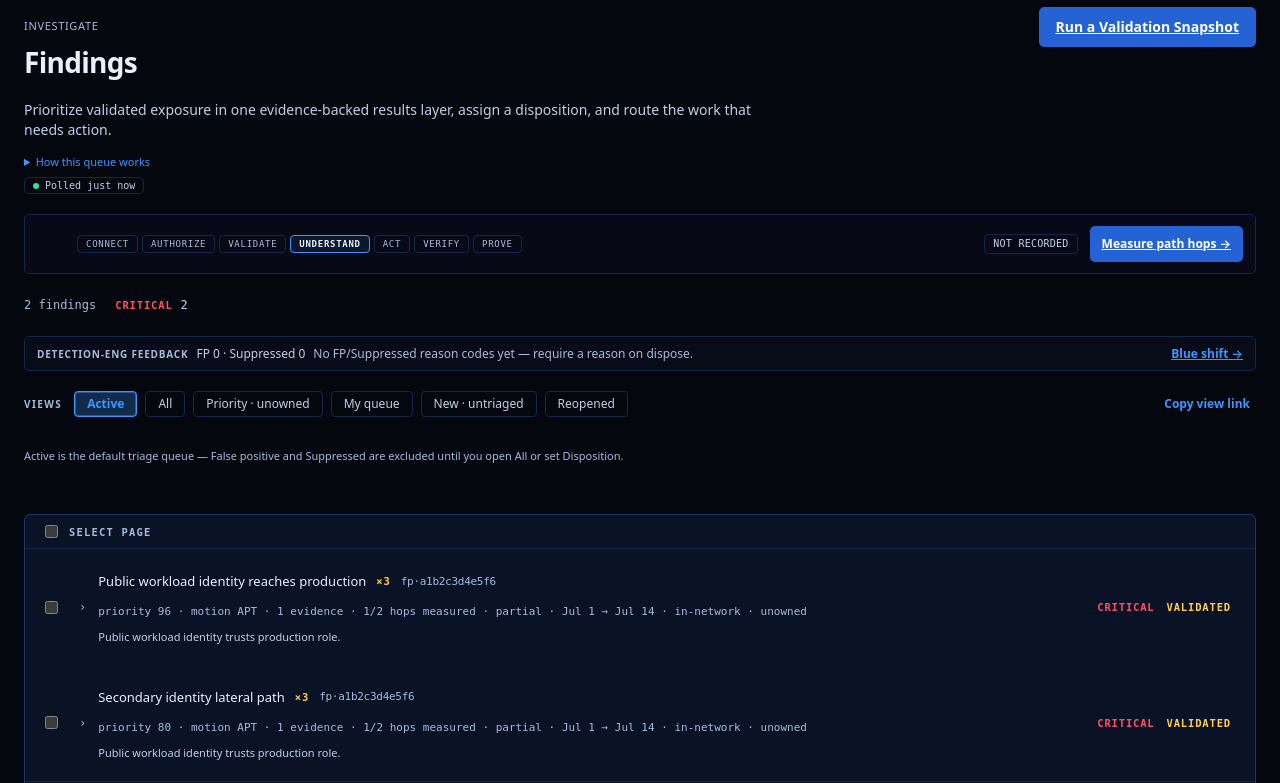
Test: FindingsWorkbench v2 › dual-pane keyboard: ArrowDown/Up move selection and Escape clears (ICP 5.0)
Click the button with aria-label "Expand finding: Public workload identity reaches production".
click(656, 607)  # box top-left (73, 558), bottom-right (1239, 656)
(page scrolled)
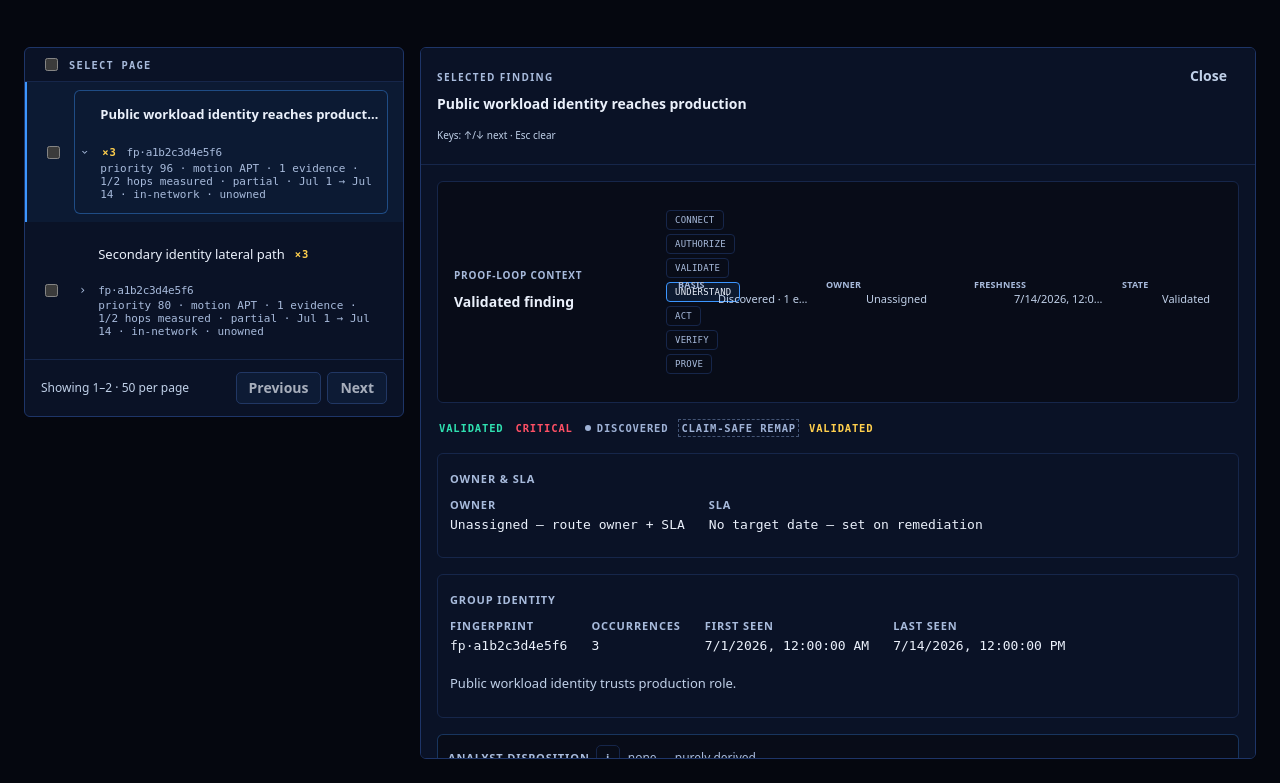
Now the element with test id "findings-dual-pane" is shown
Press ArrowDown
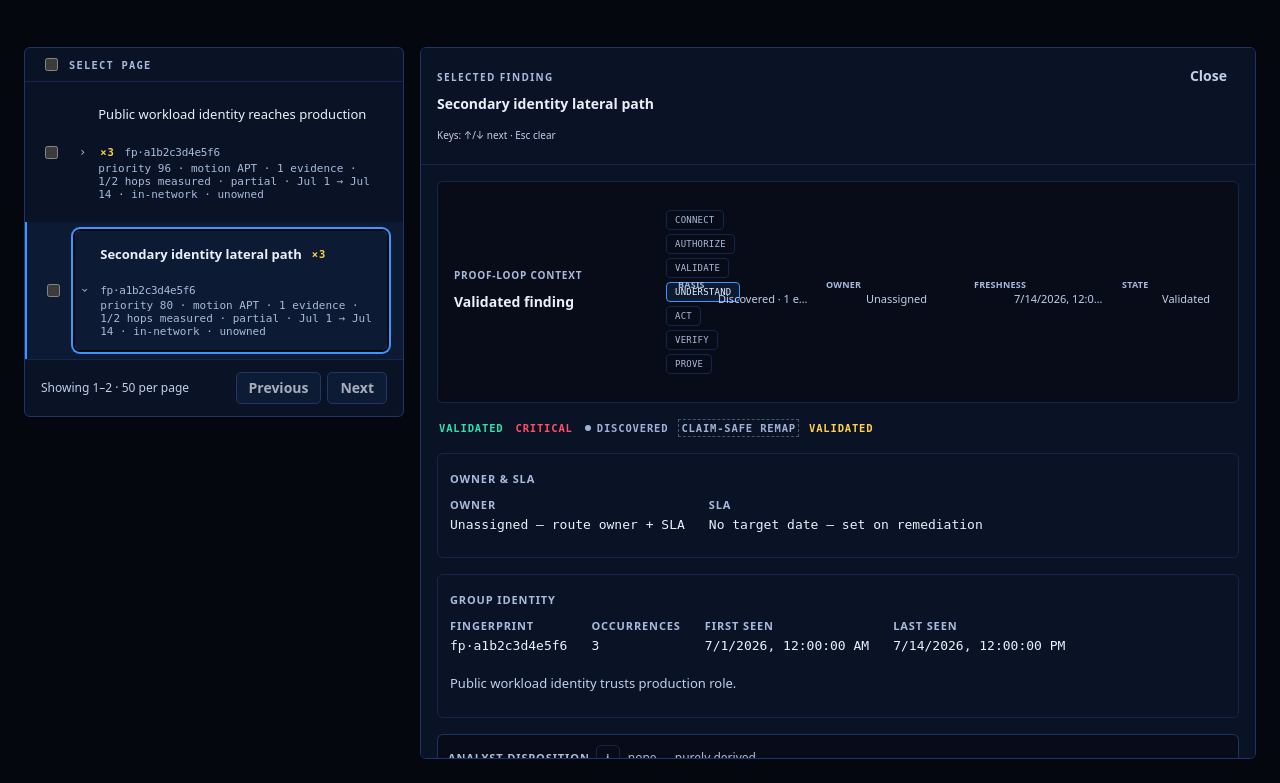
Now the element "Secondary identity lateral path" is shown, box top-left (420, 47), bottom-right (1256, 759)
Press ArrowUp
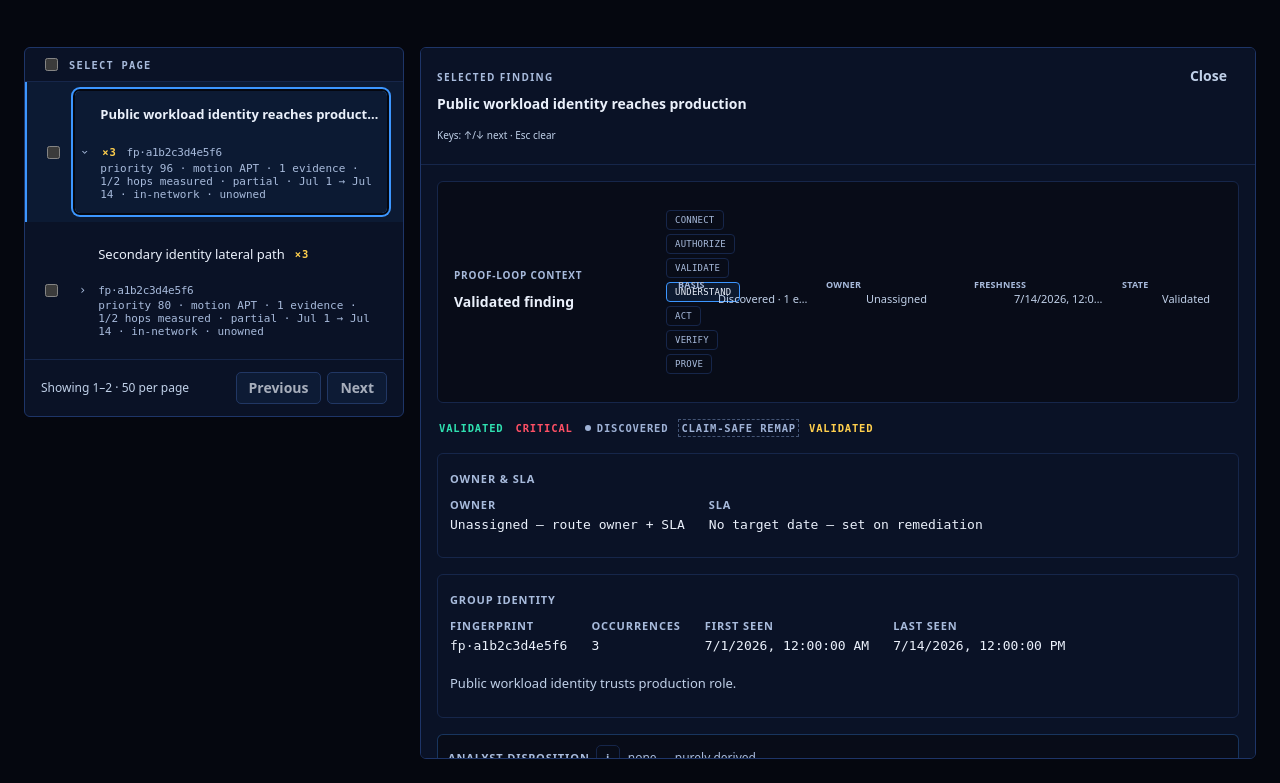
Now the element "Public workload identity reaches production" is shown, box top-left (420, 47), bottom-right (1256, 759)
Press Escape
(page scrolled)
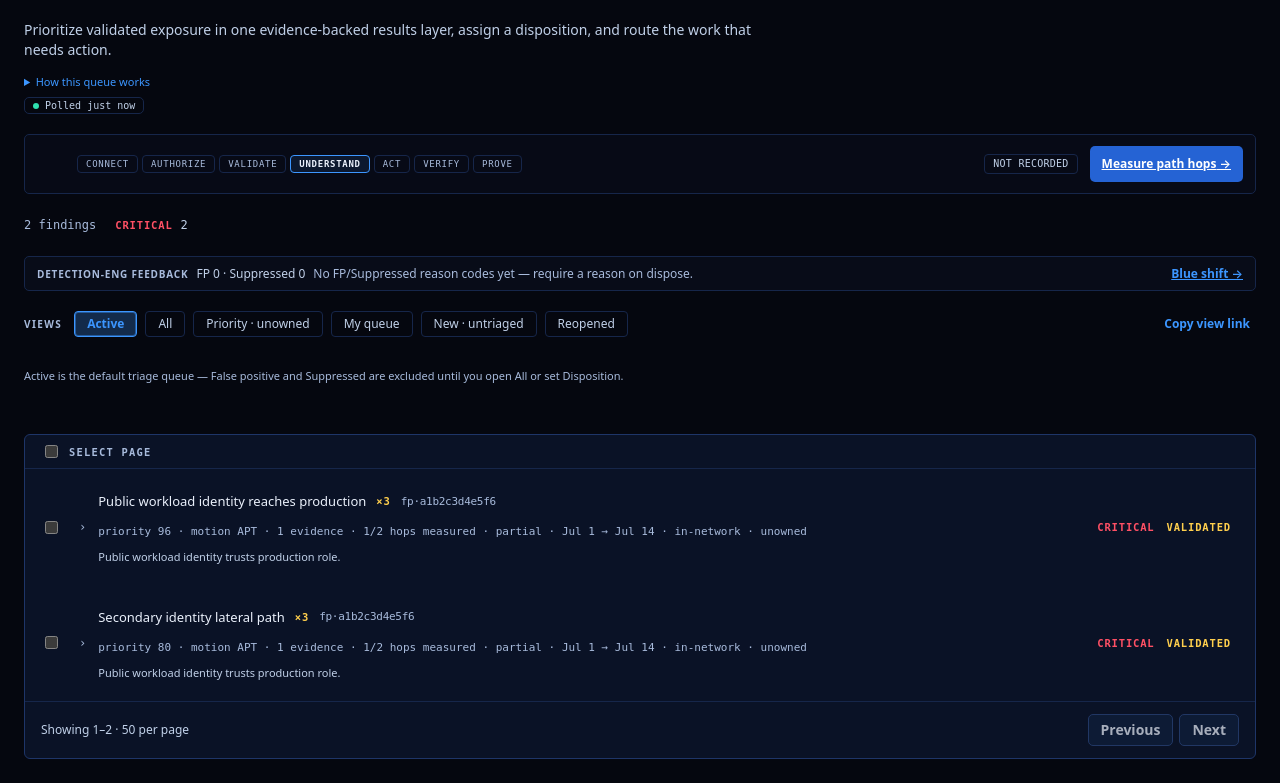
Now the element with test id "findings-dual-pane" is gone
